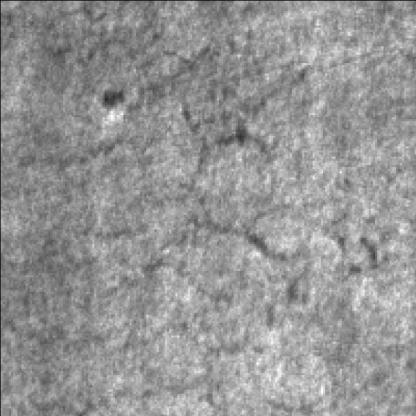crazing: (89, 198, 391, 370), (48, 21, 314, 175)
